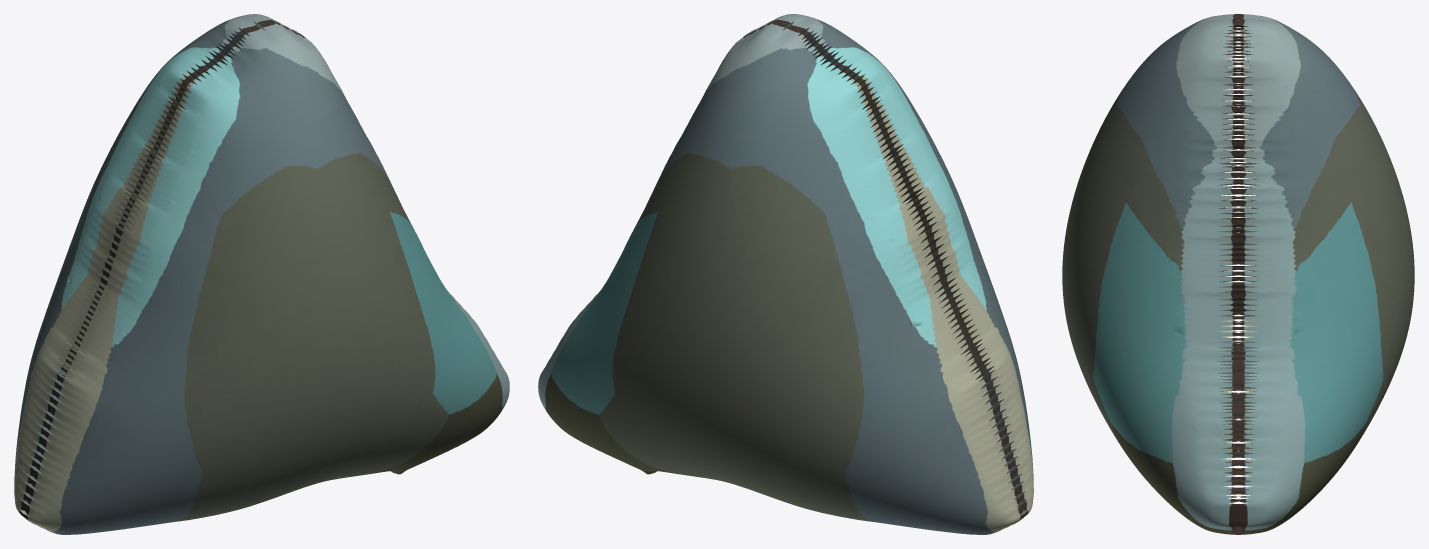
File: cliff_spur.glb
3 renders of one model, left to right at view 1: azimuth 30°, elevation 25°; view 2: azimuth 150°, elevation 25°; view 3: azimuth 270°, elevation 25°, orthographic. The views are drawn at different scales.
Visible parts, largest first — view 1: cliff_spur; view 2: cliff_spur; view 3: cliff_spur.
Part boxes in pixels (box(x1,y1,x2,y2)): cliff_spur: box(14, 14, 509, 534); cliff_spur: box(538, 14, 1033, 534); cliff_spur: box(1062, 14, 1414, 534).
Size of the model in its own units: 0.9887 by 0.908 by 0.6733.
Materials: 1 (1 with a texture image).
